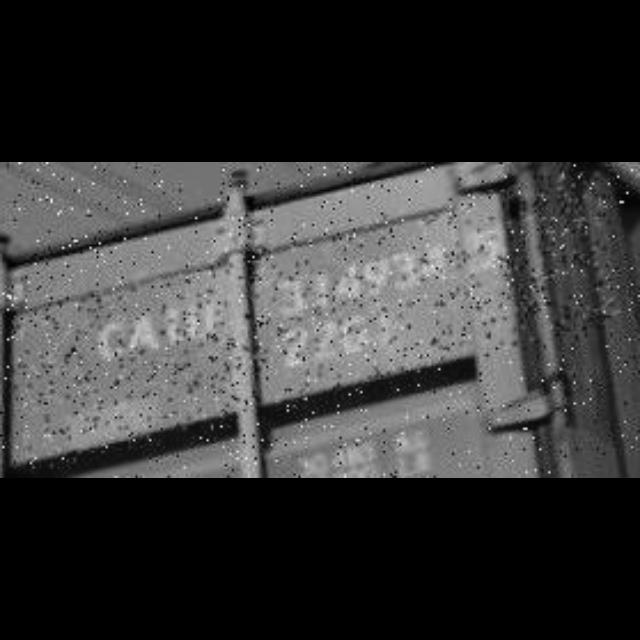1: (305, 271, 333, 309)
2: (269, 324, 317, 374), (316, 312, 348, 376)
3: (266, 270, 308, 320), (388, 244, 424, 300)
4: (422, 234, 456, 294), (336, 258, 362, 306)
5: (459, 224, 517, 286)
9: (356, 252, 396, 306)
a: (130, 312, 163, 361)
c: (93, 316, 131, 366)
g: (338, 301, 378, 367)
l: (162, 303, 192, 353)
u: (186, 301, 220, 344)
